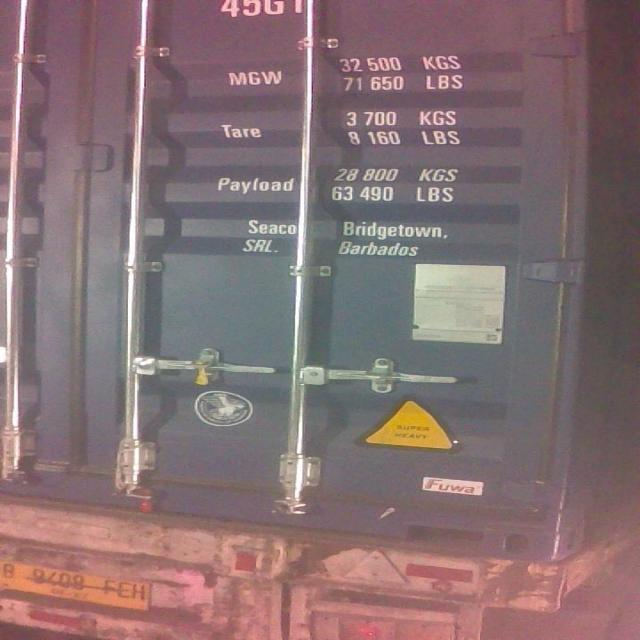seal: (189, 356, 216, 387), (135, 482, 159, 516)
